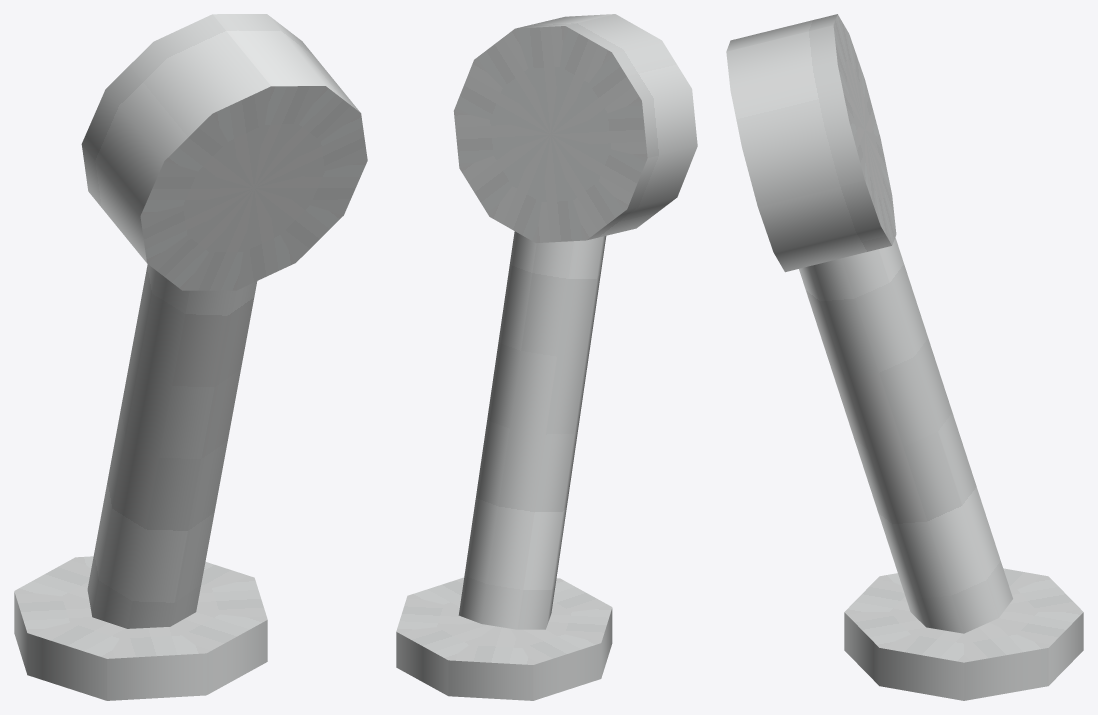
The model's file is trusssignalarm_stub_81.obj.
The picture shows the model from 3 angles, left to right: view 1: azimuth 30°, elevation 25°; view 2: azimuth 150°, elevation 25°; view 3: azimuth 270°, elevation 25°; orthographic projection. The views are drawn at different scales.
Visible parts, largest first — view 1: trusssignalarm_stub_81; view 2: trusssignalarm_stub_81; view 3: trusssignalarm_stub_81.
Part boxes in pixels (x1,y1,x2,y2): trusssignalarm_stub_81: [14, 14, 367, 700]; trusssignalarm_stub_81: [396, 14, 697, 700]; trusssignalarm_stub_81: [726, 14, 1083, 700].
Bounding box in the file's own units: 0.35 × 1.01 × 0.5226.
